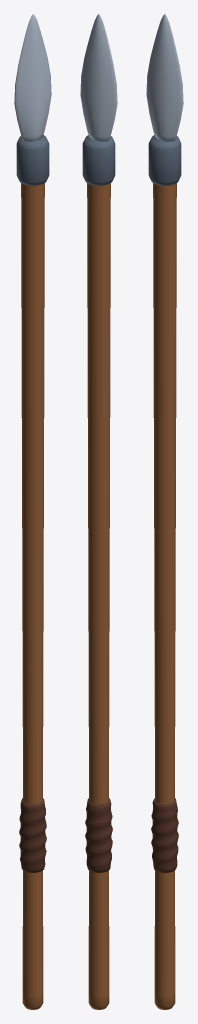
File: arma-lanza.glb
3 renders of one model, left to right at view 1: azimuth 30°, elevation 25°; view 2: azimuth 150°, elevation 25°; view 3: azimuth 330°, elevation 25°, orthographic.
Parts seen in each view (by area): view 1: arma-lanza; view 2: arma-lanza; view 3: arma-lanza.
Part boxes in pixels (x1=…): arma-lanza: x1=14, y1=14, x2=51, y2=1009; arma-lanza: x1=80, y1=14, x2=117, y2=1009; arma-lanza: x1=146, y1=14, x2=183, y2=1009.
Size of the model in its own units: 0.0901 by 2.3 by 0.0679.
